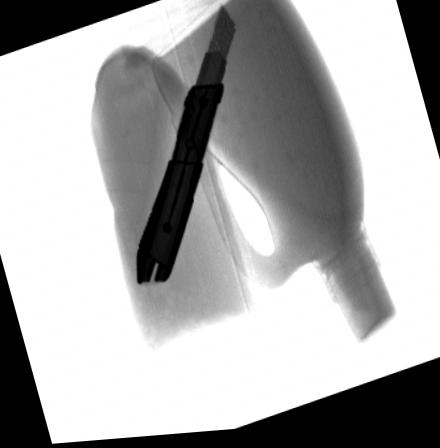Knife: (135, 3, 238, 287)
